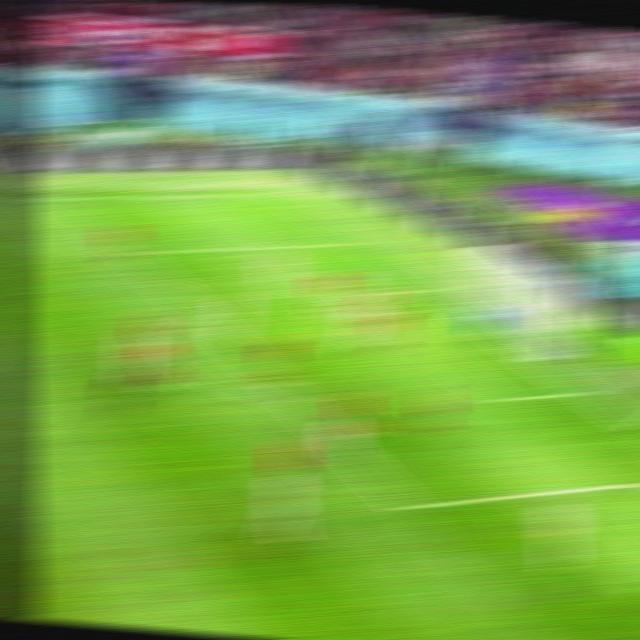bigarea_bottom_inner: (389, 493, 427, 519)
bigarea_top_inner: (118, 246, 148, 261)
bigarea_top_outter: (340, 237, 369, 248)
bottom_arc_area_intersection: (279, 394, 311, 410)
corner: (265, 191, 292, 198)
smallarea_bottom_inner: (481, 387, 516, 411)
smallarea_bottom_outter: (567, 383, 599, 399)
smallarea_top_inner: (342, 291, 371, 302)
smallarea_top_outter: (412, 283, 443, 296)
top_arc_area_intersection: (184, 303, 214, 321)
